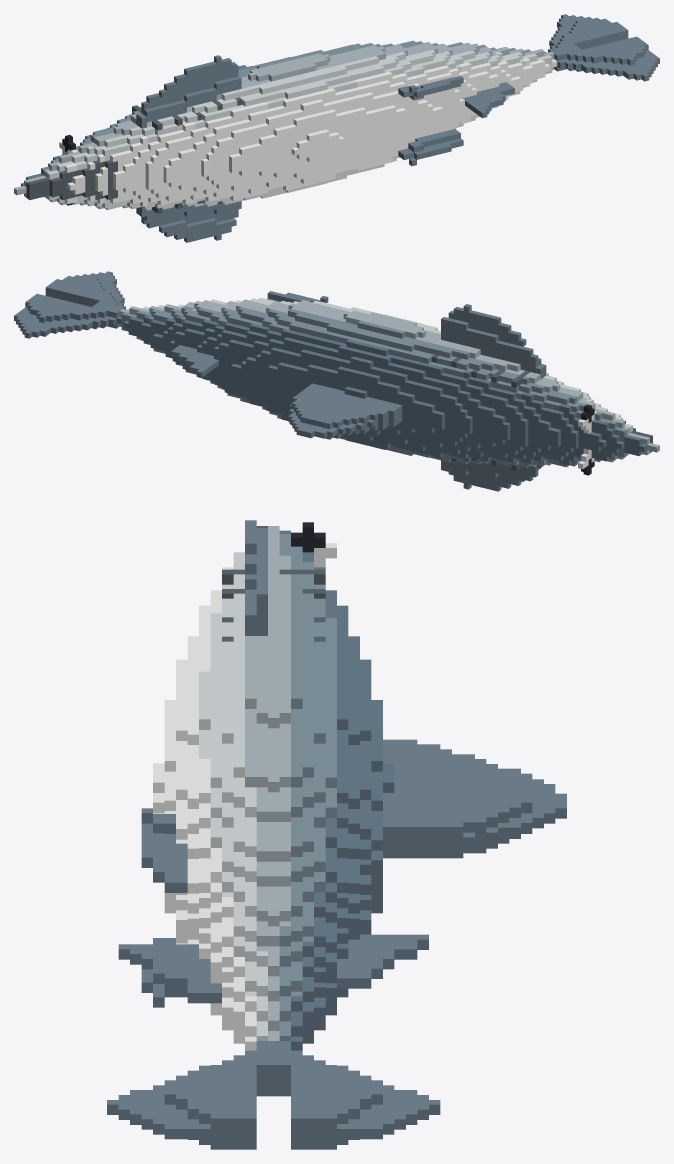
Rendered from voxel_shark_fine.glb.
The picture shows the model from 3 angles, top to bottom: view 1: azimuth 30°, elevation 25°; view 2: azimuth 150°, elevation 25°; view 3: azimuth 270°, elevation 25°; orthographic projection. The views are drawn at different scales.
Visible parts, largest first — view 1: GEO-MAT-shark-belly, GEO-MAT-shark-fin, GEO-MAT-shark-low, GEO-MAT-shark-mid, GEO-MAT-shark-gill, GEO-MAT-shark-high; view 2: GEO-MAT-shark-top, GEO-MAT-shark-fin, GEO-MAT-shark-high, GEO-MAT-shark-mid, GEO-MAT-shark-low, GEO-MAT-shark-gill, GEO-MAT-shark-eyew; view 3: GEO-MAT-shark-fin, GEO-MAT-shark-top, GEO-MAT-shark-belly, GEO-MAT-shark-high, GEO-MAT-shark-mid, GEO-MAT-shark-low, GEO-MAT-shark-gill.
Boxes of the visible parts, x1,y1,x2,y2 form: GEO-MAT-shark-belly: (64,58,557,206); GEO-MAT-shark-fin: (136,14,659,242); GEO-MAT-shark-low: (46,50,552,210); GEO-MAT-shark-mid: (14,42,554,209); GEO-MAT-shark-gill: (26,97,242,213); GEO-MAT-shark-high: (41,40,546,175); GEO-MAT-shark-top: (116,315,647,465); GEO-MAT-shark-fin: (14,271,546,491); GEO-MAT-shark-high: (121,306,627,467); GEO-MAT-shark-mid: (119,299,659,467); GEO-MAT-shark-low: (127,297,632,432); GEO-MAT-shark-gill: (431,354,652,470); GEO-MAT-shark-eyew: (578,411,596,469); GEO-MAT-shark-fin: (107,520,566,1149); GEO-MAT-shark-top: (279,530,394,1050); GEO-MAT-shark-belly: (153,567,256,1050); GEO-MAT-shark-high: (279,534,336,1040); GEO-MAT-shark-mid: (245,526,290,1040); GEO-MAT-shark-low: (199,552,267,1040); GEO-MAT-shark-gill: (222,526,325,641).
Bounding box in the file's own units: 6.82 × 1.92 × 2.2.
